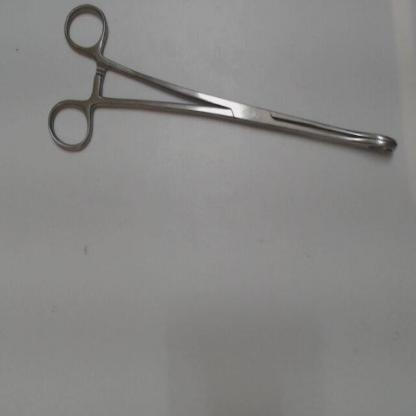Sponge Forceps: (43, 3, 404, 158)
